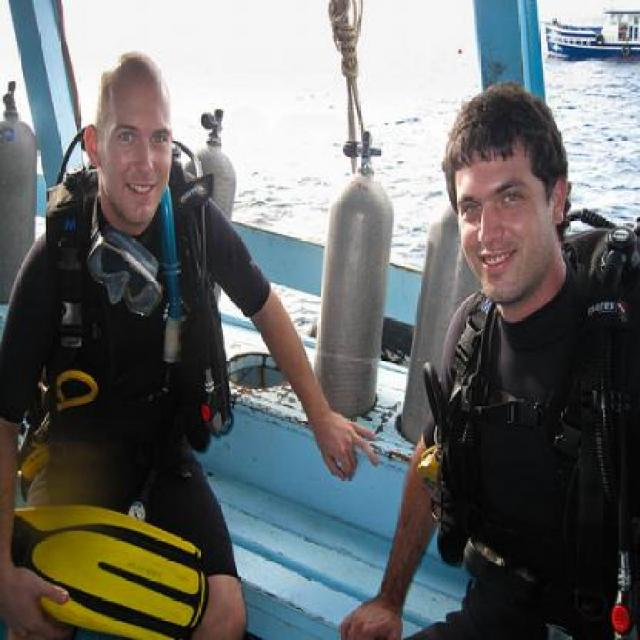ship: (539, 0, 638, 60)
